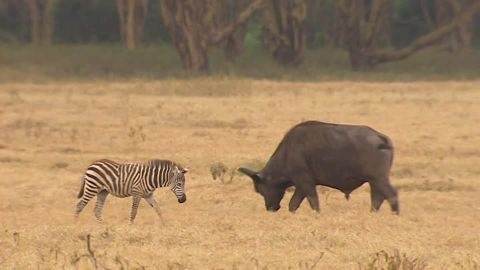buffalo: (235, 120, 403, 216)
zebra: (71, 156, 188, 227)
